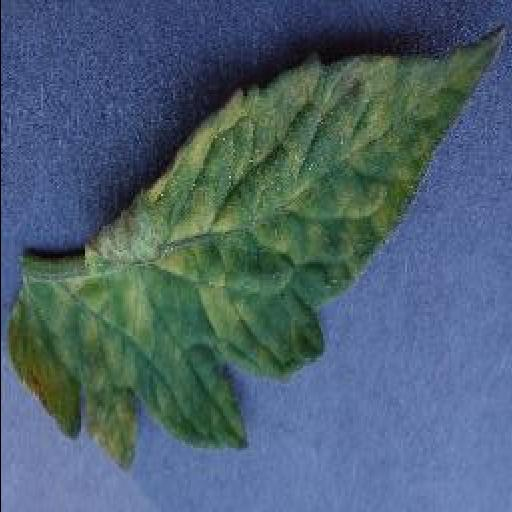disease_tomato: (0, 24, 510, 472)
